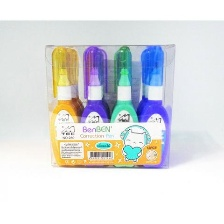correction_fluid: (75, 44, 114, 169), (106, 44, 142, 169), (46, 45, 82, 168), (137, 43, 171, 169)
plastic_box: (41, 40, 179, 173)
